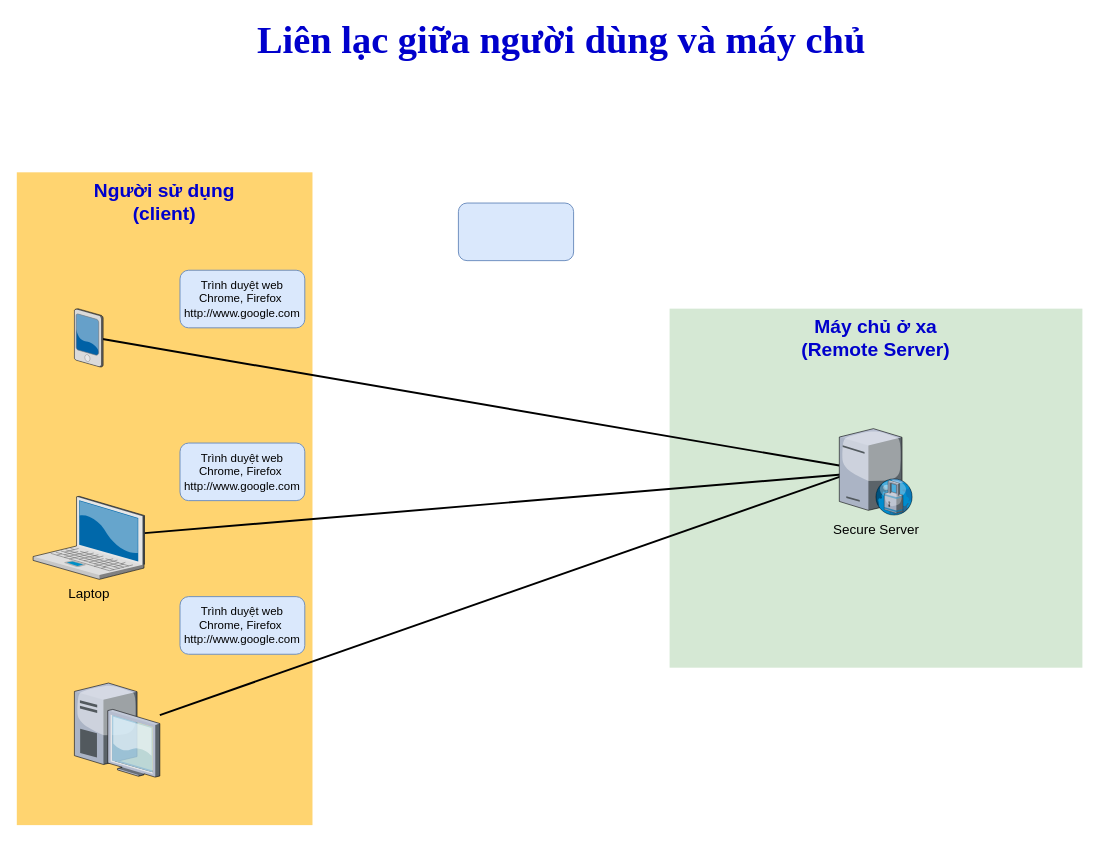
Some shapes in this 1098 by 841 pixel diagram are drawn without their labels. Each missing label, with the box of its shape:
Máy tính để bàn: (74, 683, 159, 777)
www.google.com: (457, 202, 574, 261)
Điện thoại: (74, 308, 103, 367)
